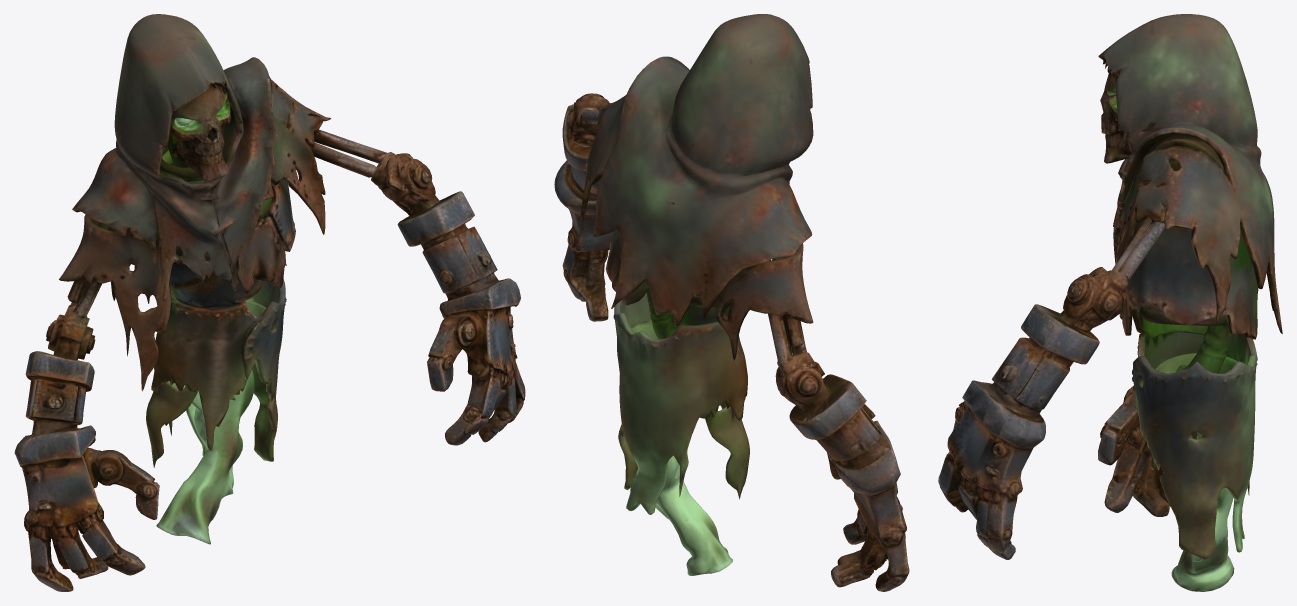
The model's file is morto_vivo.glb.
The picture shows the model from 3 angles, left to right: view 1: azimuth 30°, elevation 25°; view 2: azimuth 150°, elevation 25°; view 3: azimuth 270°, elevation 25°; orthographic projection. The views are drawn at different scales.
Visible parts, largest first — view 1: material; view 2: material; view 3: material.
Boxes of the visible parts, <box> form: material: <box>14,14,525,591</box>; material: <box>554,14,909,591</box>; material: <box>938,14,1282,591</box>.
Bounding box in the file's own units: 0.7943 × 0.9751 × 0.5527.
1 material, 1 textured.
